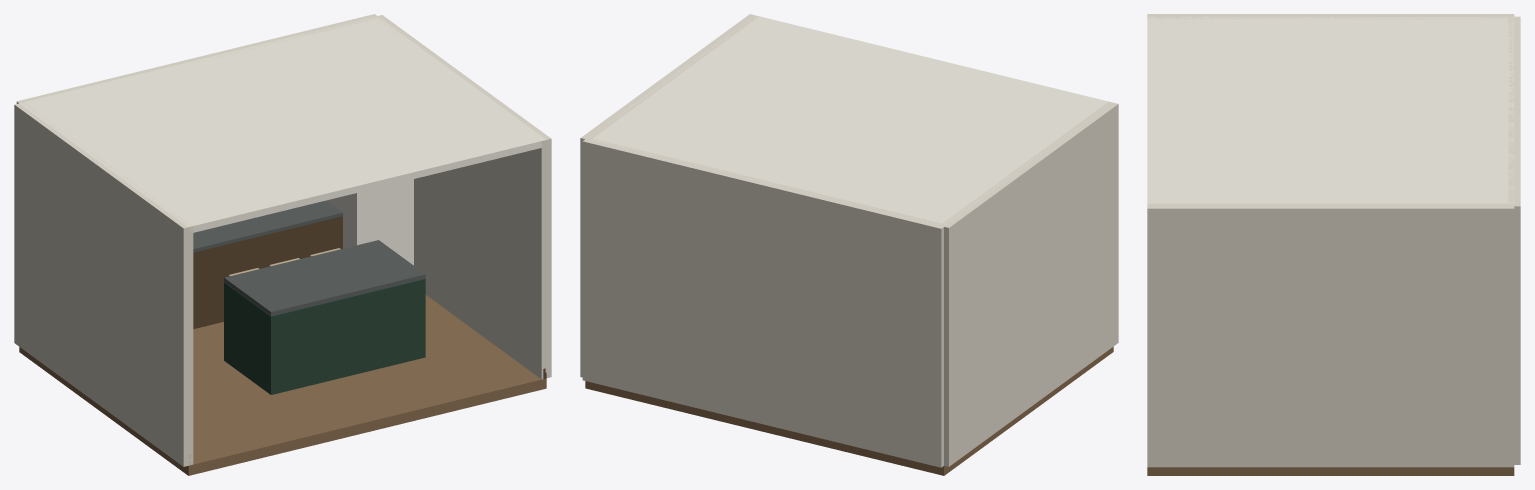
The model's file is kitchen.glb.
3 views of the same model, side by side, from view 1: azimuth 30°, elevation 25°; view 2: azimuth 150°, elevation 25°; view 3: azimuth 270°, elevation 25° (orthographic). The views are drawn at different scales.
Bounding box in the file's own units: 4.52 × 2.92 × 3.66.
